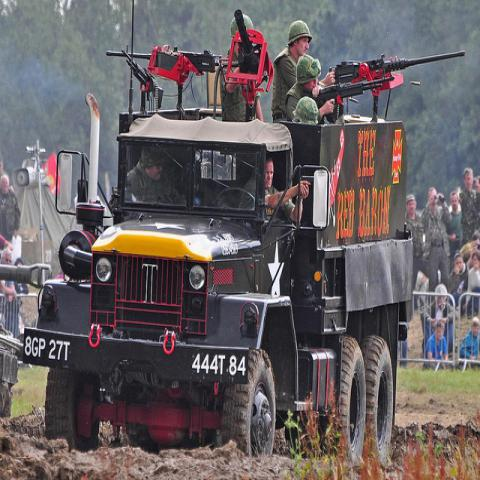truck: (22, 112, 415, 471)
